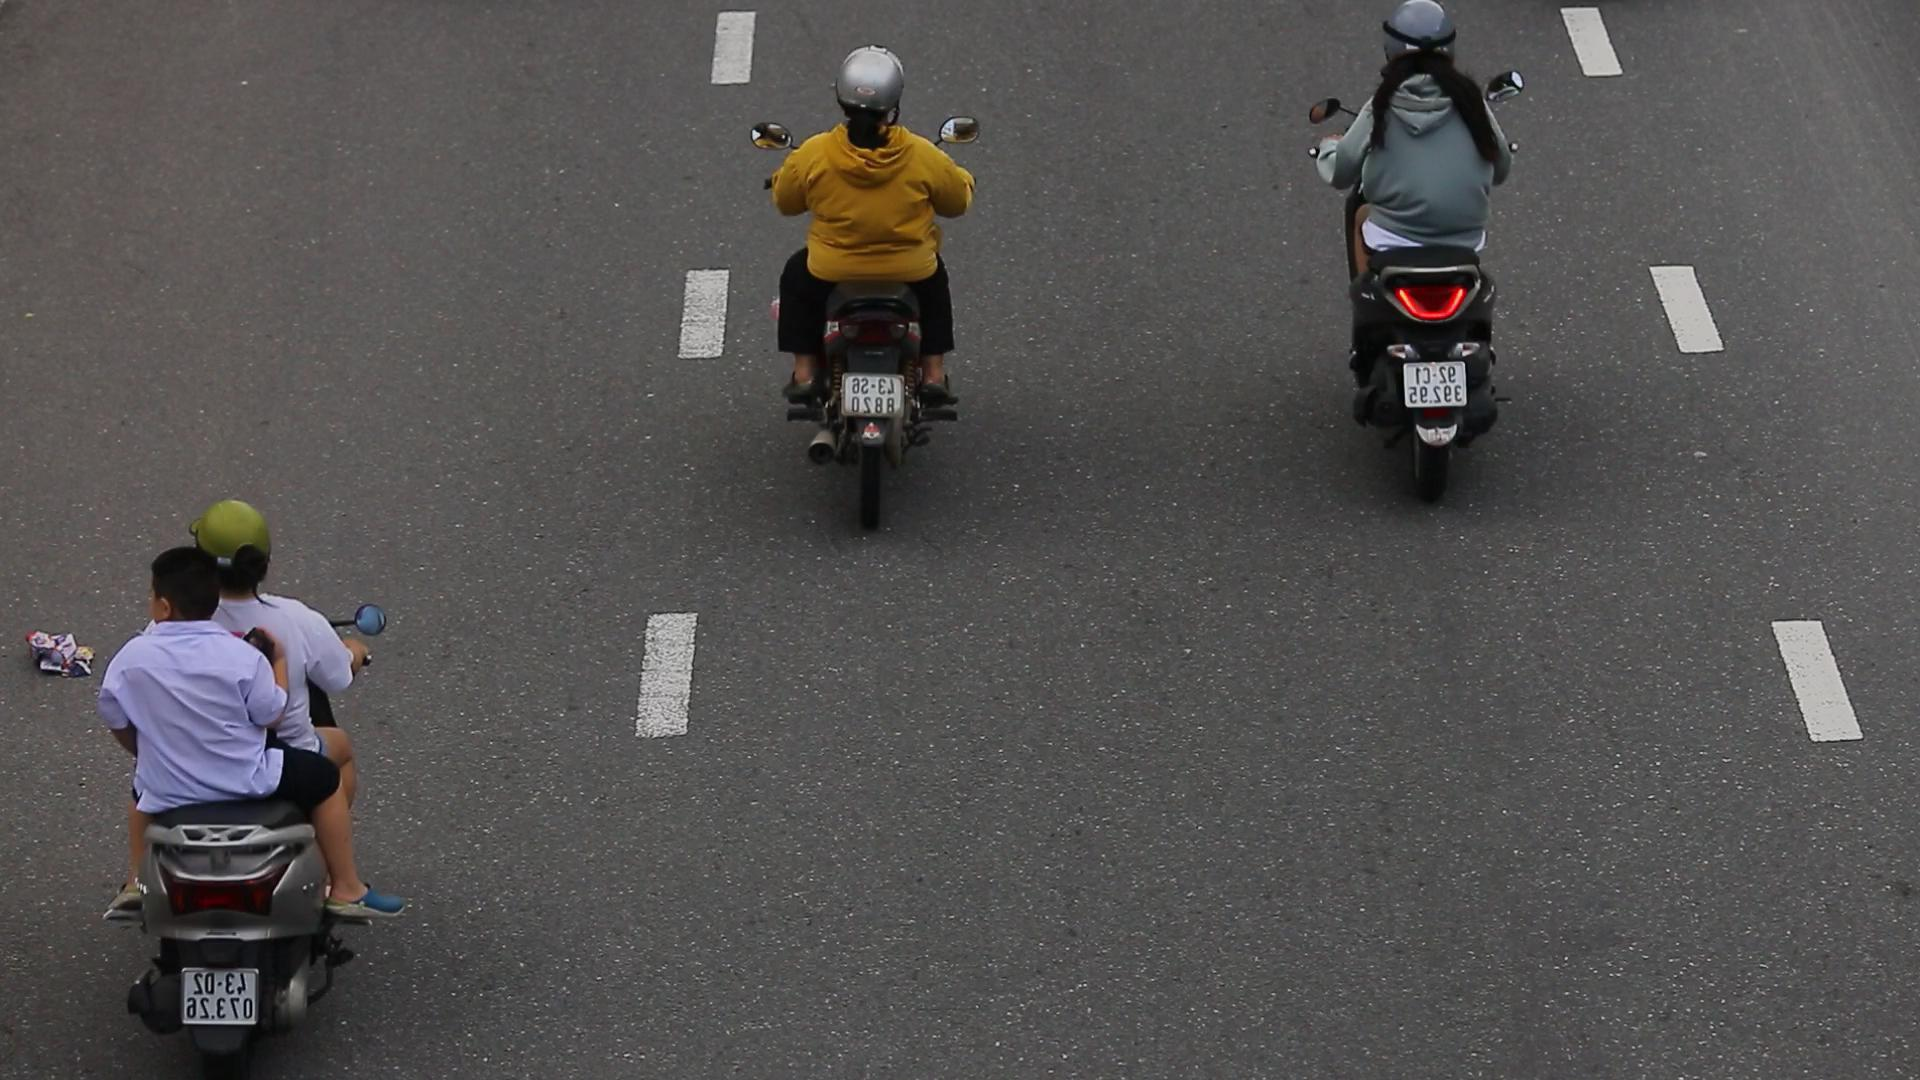motobike: (105, 491, 401, 1068), (742, 36, 997, 529), (1315, 0, 1535, 488)
